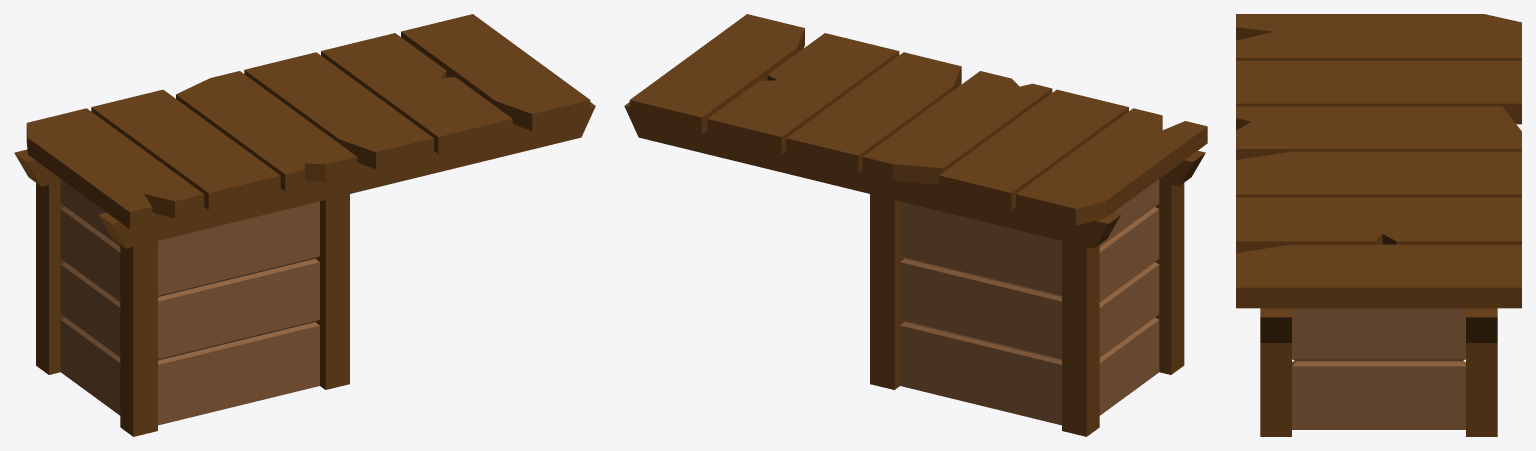
File: HalfTable.fbx
The picture shows the model from 3 angles, left to right: view 1: azimuth 30°, elevation 25°; view 2: azimuth 150°, elevation 25°; view 3: azimuth 270°, elevation 25°; orthographic projection. The views are drawn at different scales.
Visible parts, largest first — view 1: HalfTable; view 2: HalfTable; view 3: HalfTable.
Part boxes in pixels (left/top/right/bottom): HalfTable: left=14, top=14, right=595, bottom=436; HalfTable: left=624, top=14, right=1207, bottom=436; HalfTable: left=1236, top=14, right=1521, bottom=436.
Size of the model in its own units: 209 by 97.26 by 88.03.
